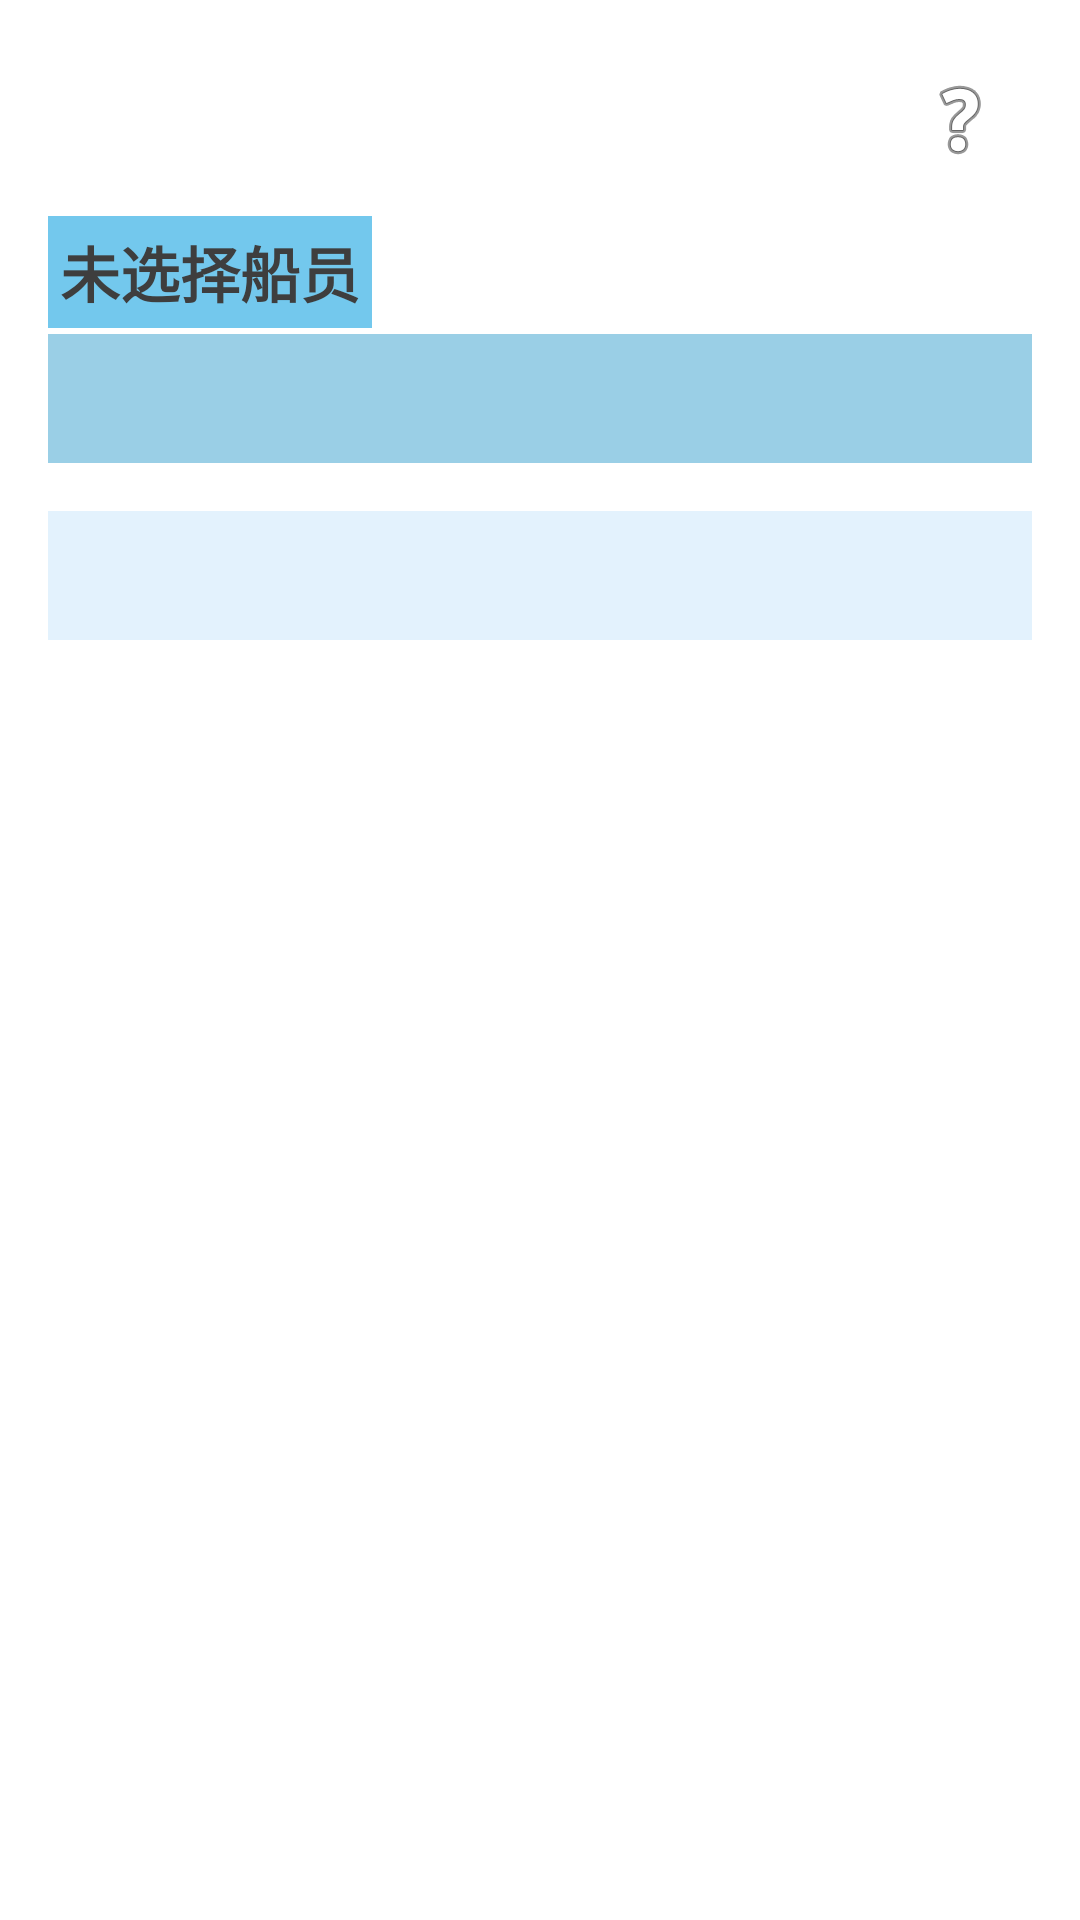

Locate icon controls on the screen. Image size 1080 x 1920, boxes as (x1, y1, x2, y2).
help: (939, 86, 981, 154)
